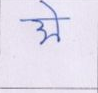e_matra: (40, 0, 60, 18)
